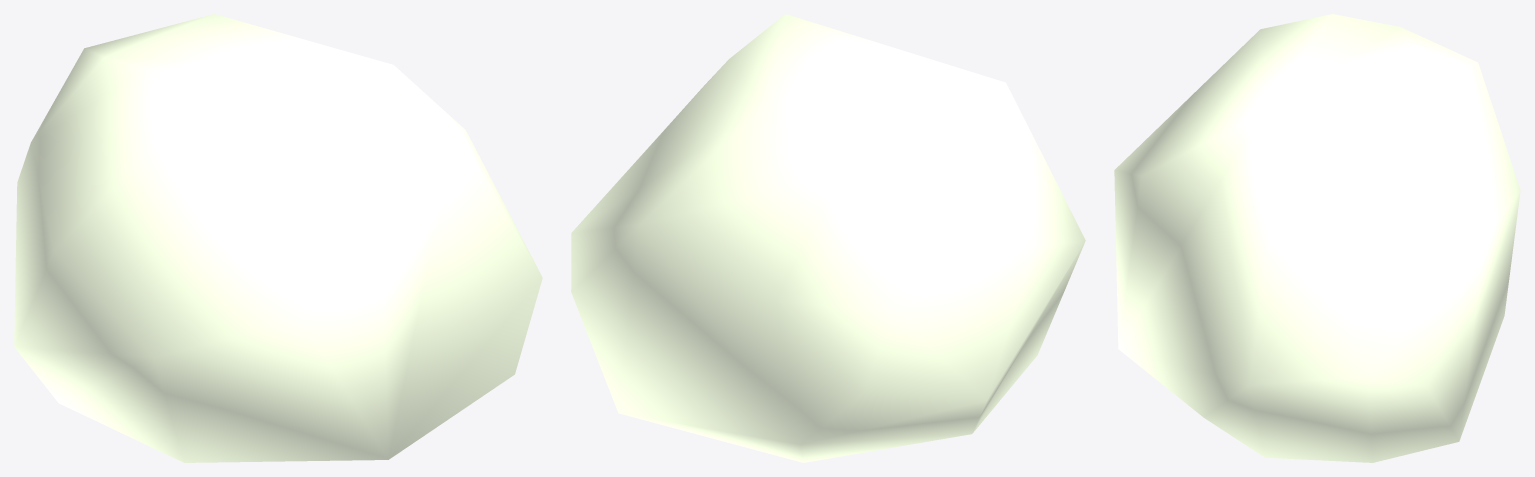
Rendered from stone.glb.
The picture shows the model from 3 angles, left to right: view 1: azimuth 30°, elevation 25°; view 2: azimuth 150°, elevation 25°; view 3: azimuth 270°, elevation 25°; orthographic projection. The views are drawn at different scales.
Visible parts, largest first — view 1: Rock; view 2: Rock; view 3: Rock.
Part boxes in pixels (x1,y1,x2,y2): Rock: [14, 14, 542, 462]; Rock: [571, 14, 1085, 462]; Rock: [1114, 14, 1520, 462].
Size of the model in its own units: 0.6332 by 0.4799 by 0.5557.
